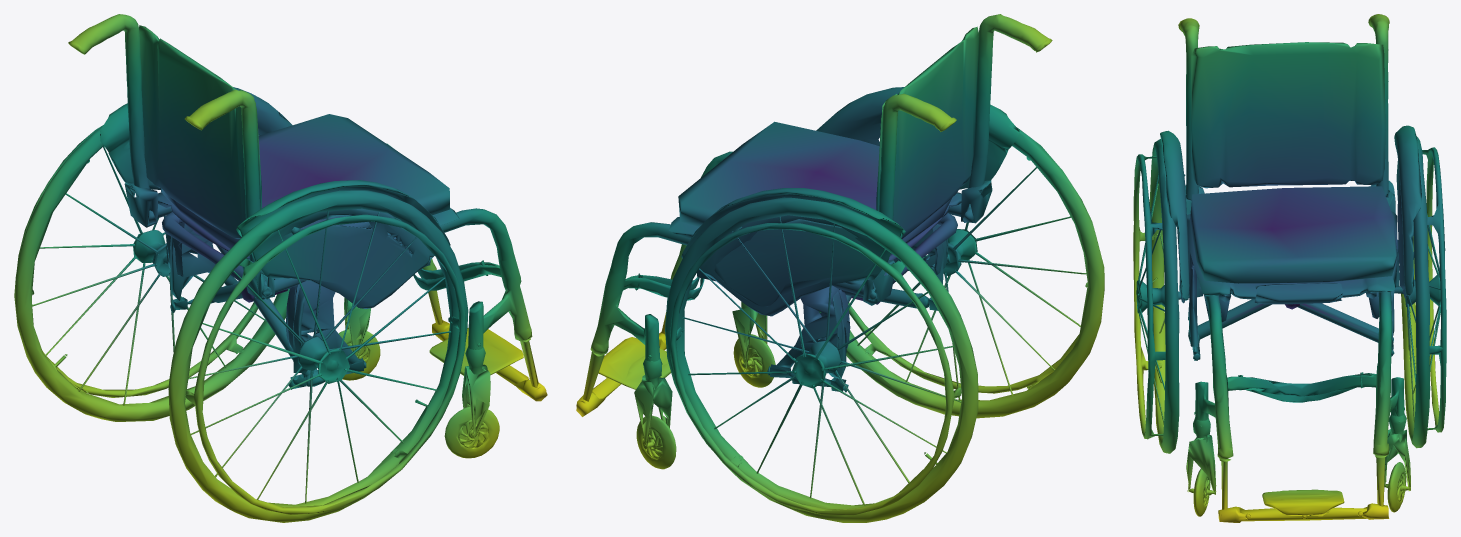
File: wheelchair_new_compressed2.obj
3 renders of one model, left to right at view 1: azimuth 30°, elevation 25°; view 2: azimuth 150°, elevation 25°; view 3: azimuth 270°, elevation 25°, orthographic. The views are drawn at different scales.
Bounding box in the file's own units: 3 × 2.84 × 2.1.
